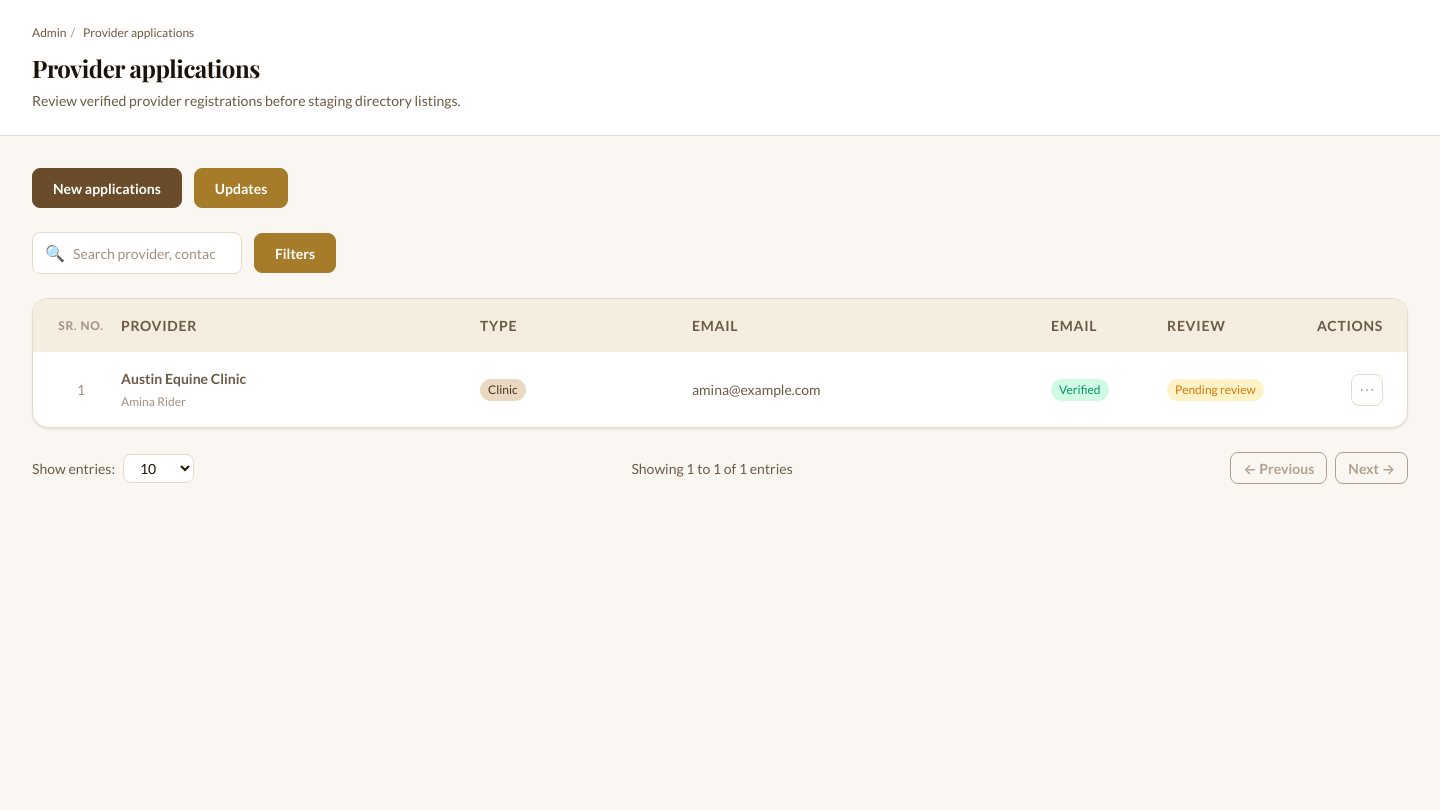
Test: ProviderApplicationsPage › shows null application history and missing consents as not provided without deriving stable visits from legacy metadata
The image size is (1440, 810).
Click the button named "Actions for Austin Equine Clinic" at (1367, 390), box [1351,374,1383,406]
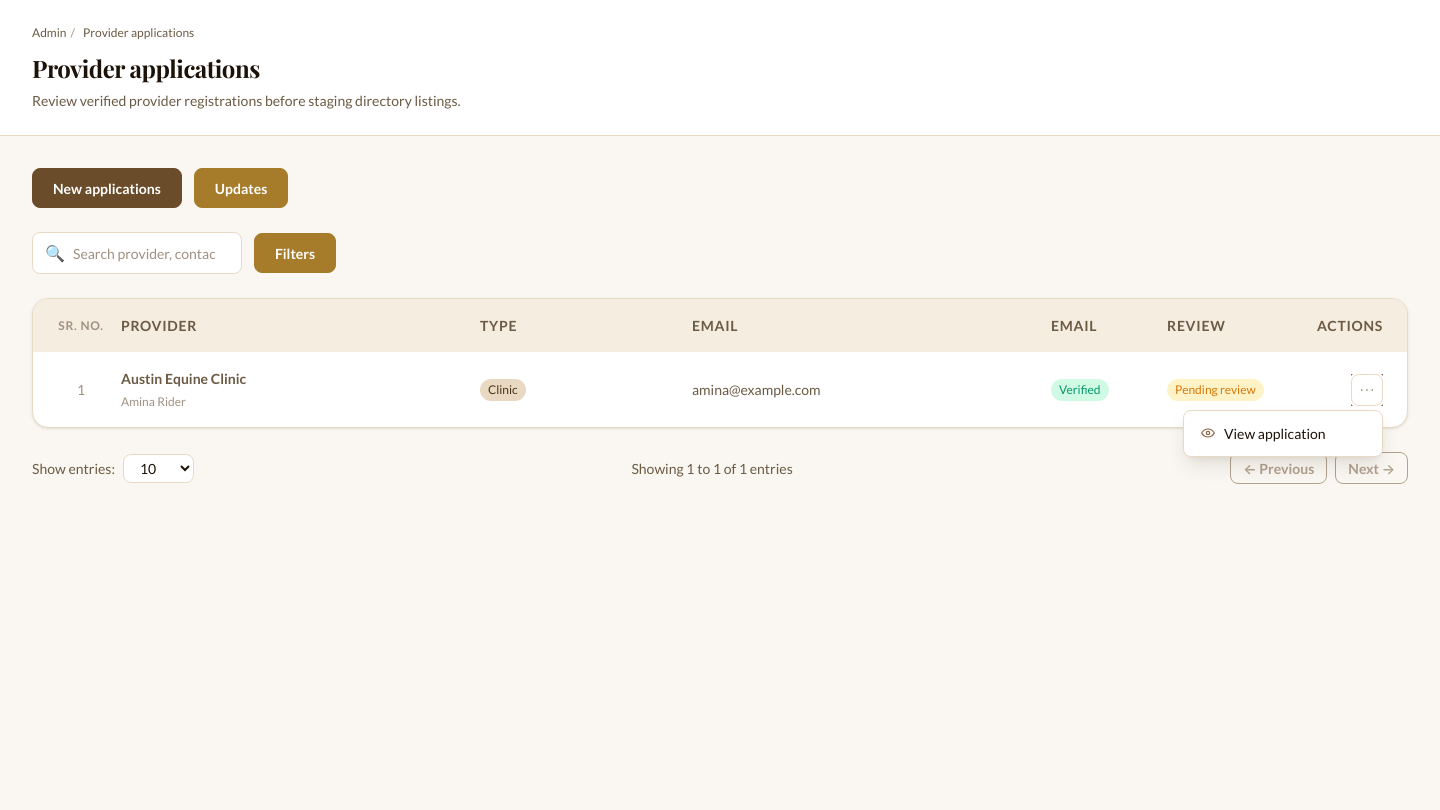
Click the menu item "View application" at (1283, 433), box [1188,414,1378,452]
(page scrolled)
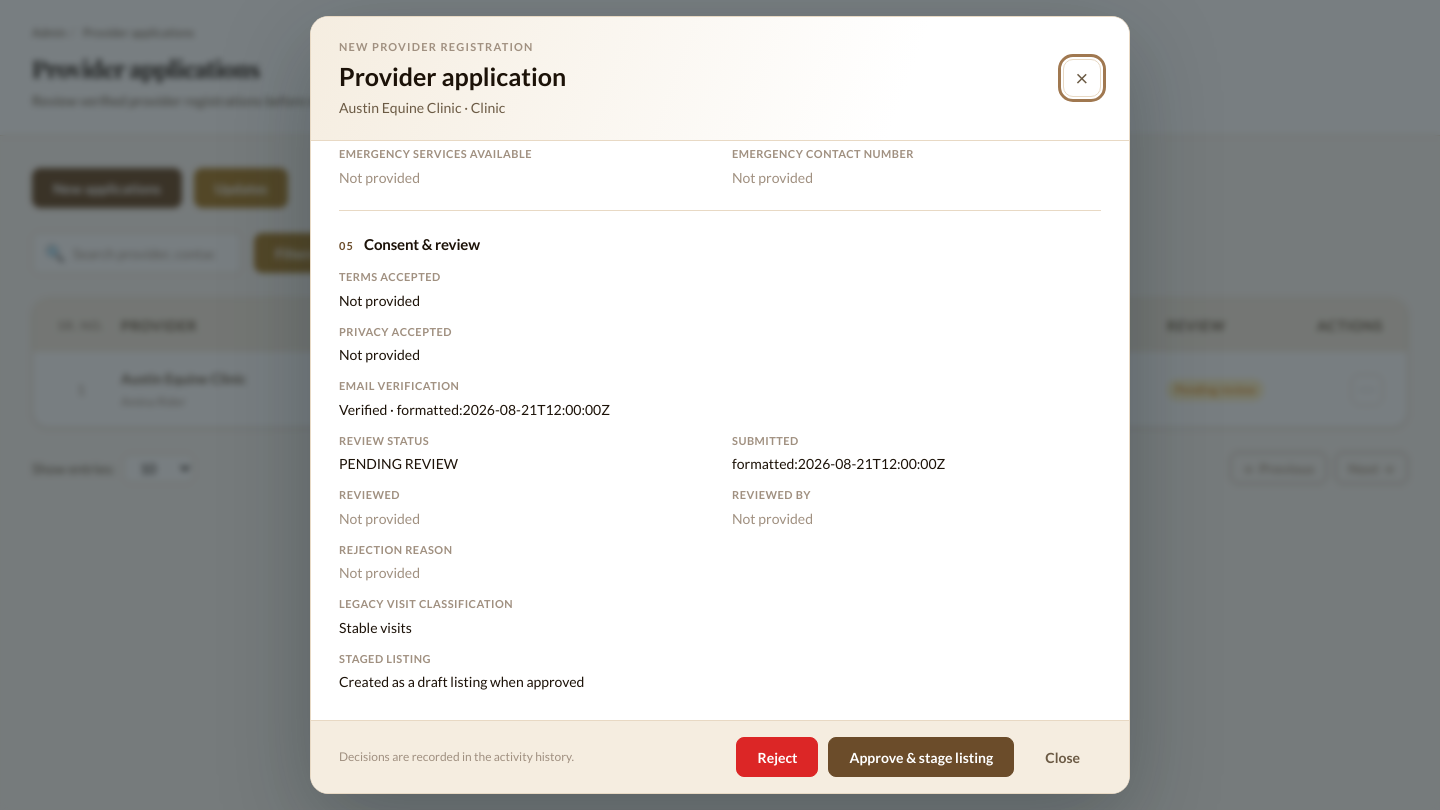
Now the text "Legacy visit classification" is shown, box [339,597,513,610]
